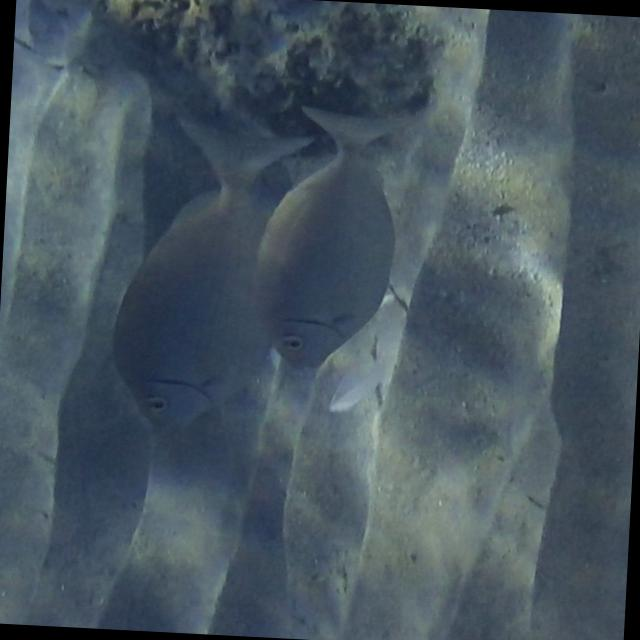Sokar Baligi: (239, 94, 425, 384)
